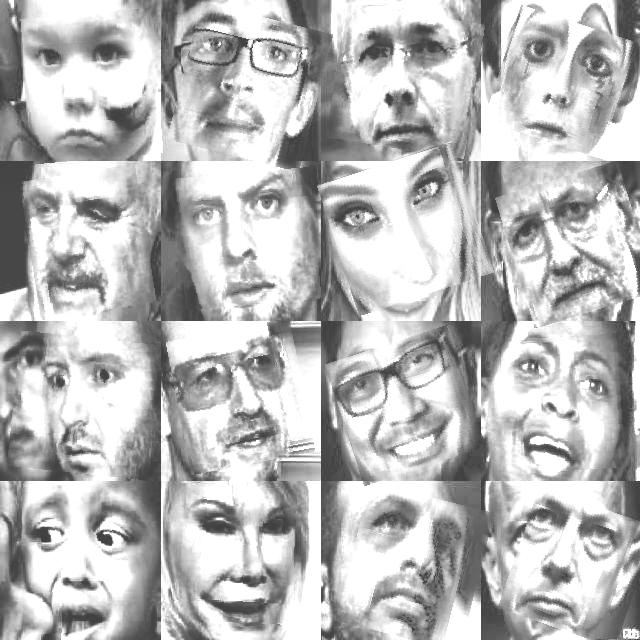fear: (11, 335, 157, 477), (178, 170, 318, 308), (23, 492, 144, 634), (514, 335, 629, 473)
happy: (326, 151, 486, 307), (334, 334, 478, 478), (24, 168, 151, 316), (172, 485, 296, 623)
neutral: (175, 9, 325, 165), (331, 8, 481, 154), (343, 488, 486, 640), (23, 10, 160, 162), (503, 168, 640, 320), (491, 14, 638, 152), (172, 324, 310, 470), (506, 495, 640, 640)
